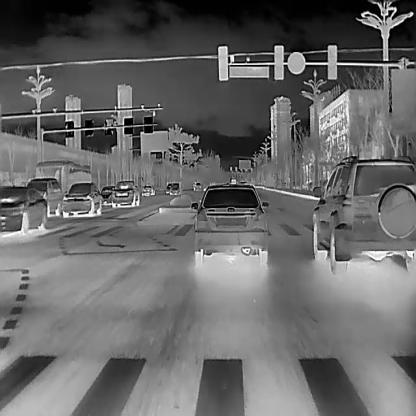bus: (32, 159, 90, 194)
car: (312, 155, 416, 276), (190, 184, 269, 267), (0, 186, 47, 238), (25, 177, 63, 215), (61, 182, 102, 216), (111, 180, 139, 208), (100, 184, 115, 204), (165, 182, 179, 195), (140, 184, 155, 196)
